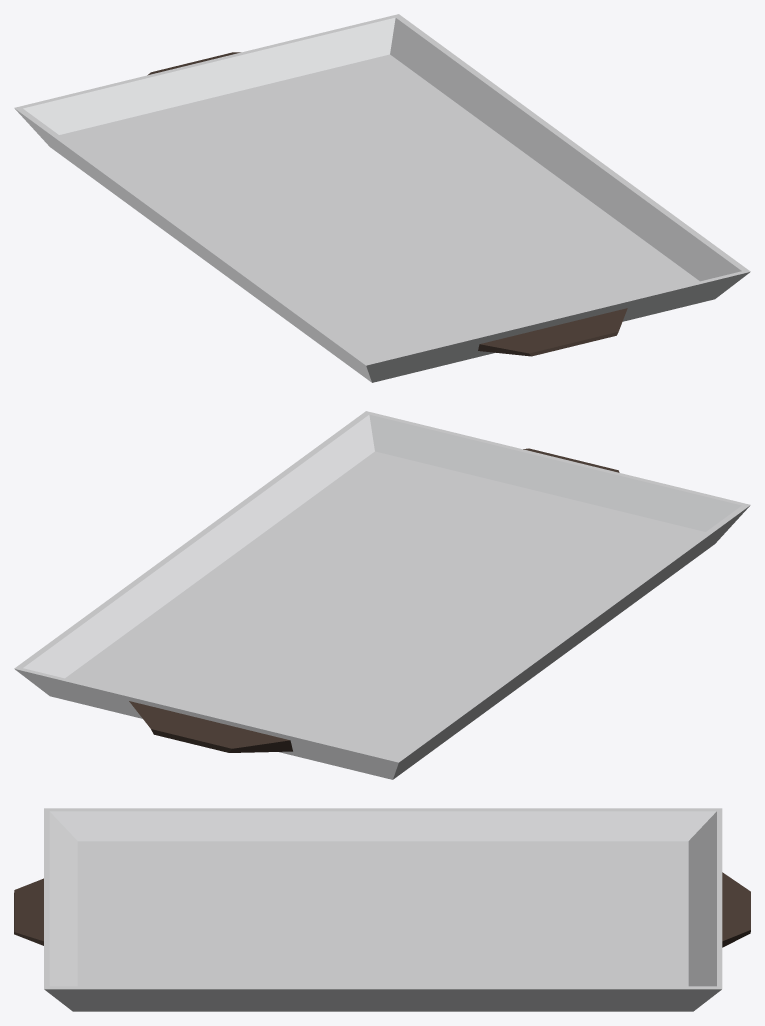
The model's file is tray.fbx.
The picture shows the model from 3 angles, top to bottom: view 1: azimuth 30°, elevation 25°; view 2: azimuth 150°, elevation 25°; view 3: azimuth 270°, elevation 25°; orthographic projection. The views are drawn at different scales.
Visible parts, largest first — view 1: Tray; view 2: Tray; view 3: Tray.
Boxes of the visible parts, <box> form: Tray: <box>14,14,750,382</box>; Tray: <box>14,411,750,779</box>; Tray: <box>14,808,750,1011</box>.
Size of the model in its own units: 386 by 31.93 by 664.
